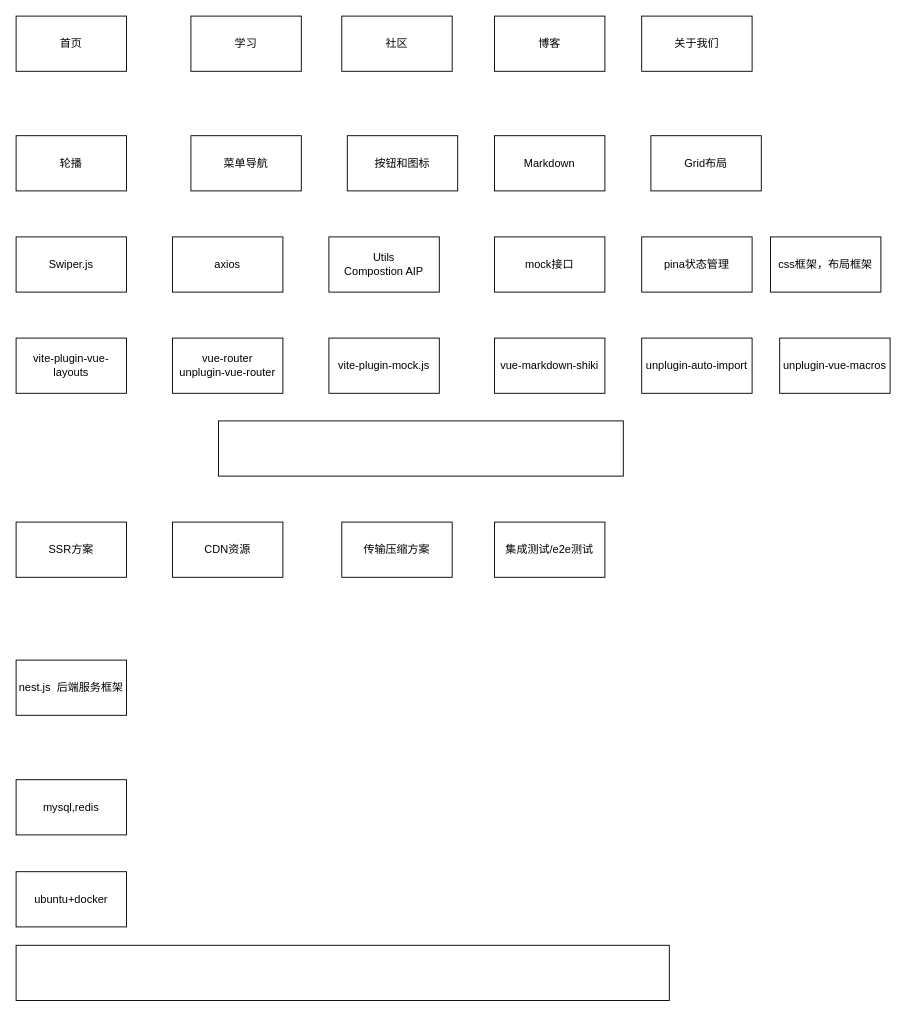
Image size: 906x1017. Some labels were removed from this diagram. The centre of each missing label's shape, as x and y in pixels:
node18+VScode: [342,972]
Vite5+Vue3+CompositionAPI+Setup语法糖+TypeScript: [420,448]
